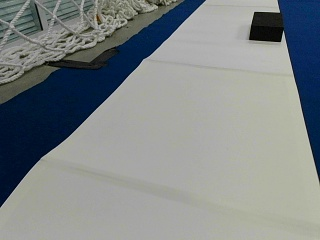block: (249, 11, 283, 41)
